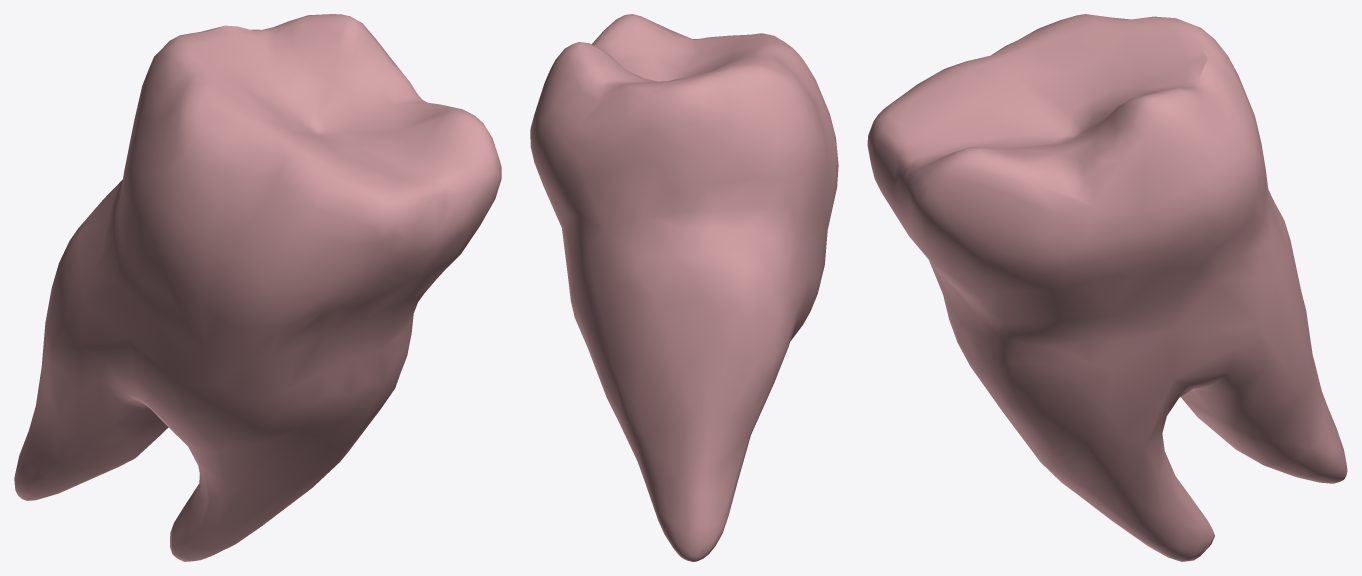
File: fma55705_mm820m.glb
3 renders of one model, left to right at view 1: azimuth 30°, elevation 25°; view 2: azimuth 150°, elevation 25°; view 3: azimuth 270°, elevation 25°, orthographic. The views are drawn at different scales.
Visible parts, largest first — view 1: FMA55705_MM820M; view 2: FMA55705_MM820M; view 3: FMA55705_MM820M.
Part boxes in pixels (<box>): FMA55705_MM820M: <box>14,14,501,561</box>; FMA55705_MM820M: <box>530,14,838,561</box>; FMA55705_MM820M: <box>867,14,1347,561</box>.
Size of the model in its own units: 0.0114 by 0.0175 by 0.0144.
